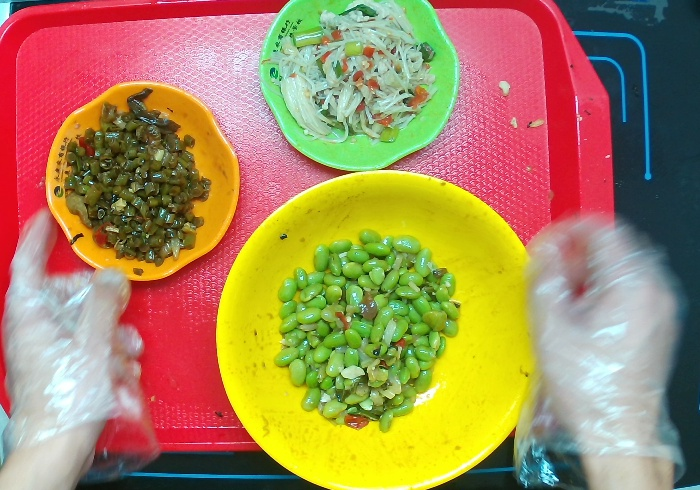YKMZ-Huang_Se_Tang_Wan: (215, 169, 549, 490)
YKMZ-Ju_Se_Ao_Bian_Wan: (42, 80, 242, 283)
YKMZ-Lv_Se_Ao_Bian_Wan: (257, 1, 463, 176)
